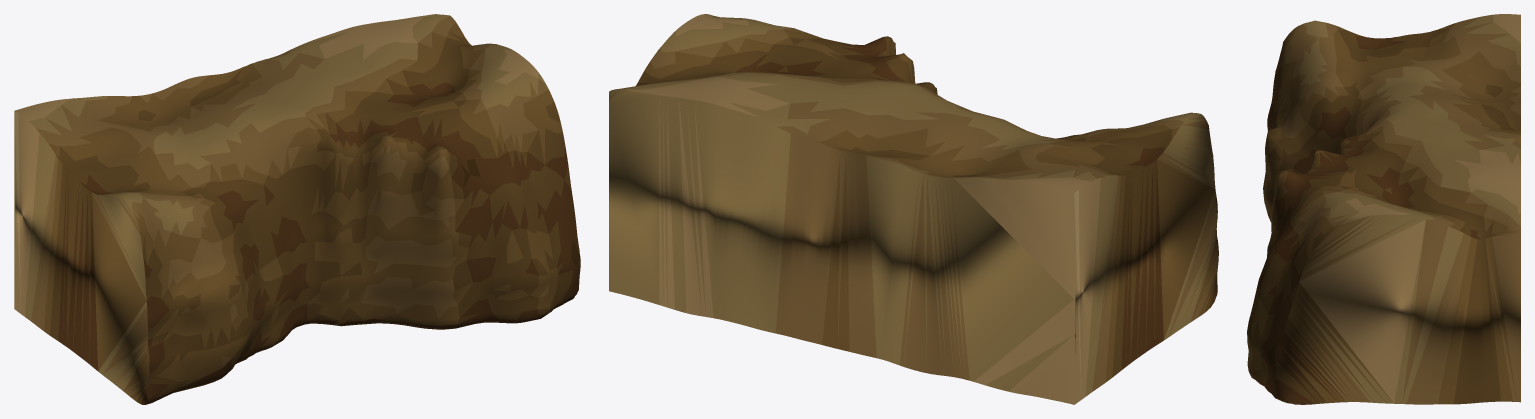
File: rock_arch_204.glb
3 views of the same model, side by side, from view 1: azimuth 30°, elevation 25°; view 2: azimuth 150°, elevation 25°; view 3: azimuth 270°, elevation 25° (orthographic). The views are drawn at different scales.
Parts seen in each view (by area): view 1: rock_arch_204; view 2: rock_arch_204; view 3: rock_arch_204.
Boxes of the visible parts, box(x1,y1,x2,y2) form: rock_arch_204: box(14, 14, 580, 404); rock_arch_204: box(609, 14, 1218, 404); rock_arch_204: box(1247, 14, 1520, 404).
Size of the model in its own units: 24 by 10.85 by 13.85.
